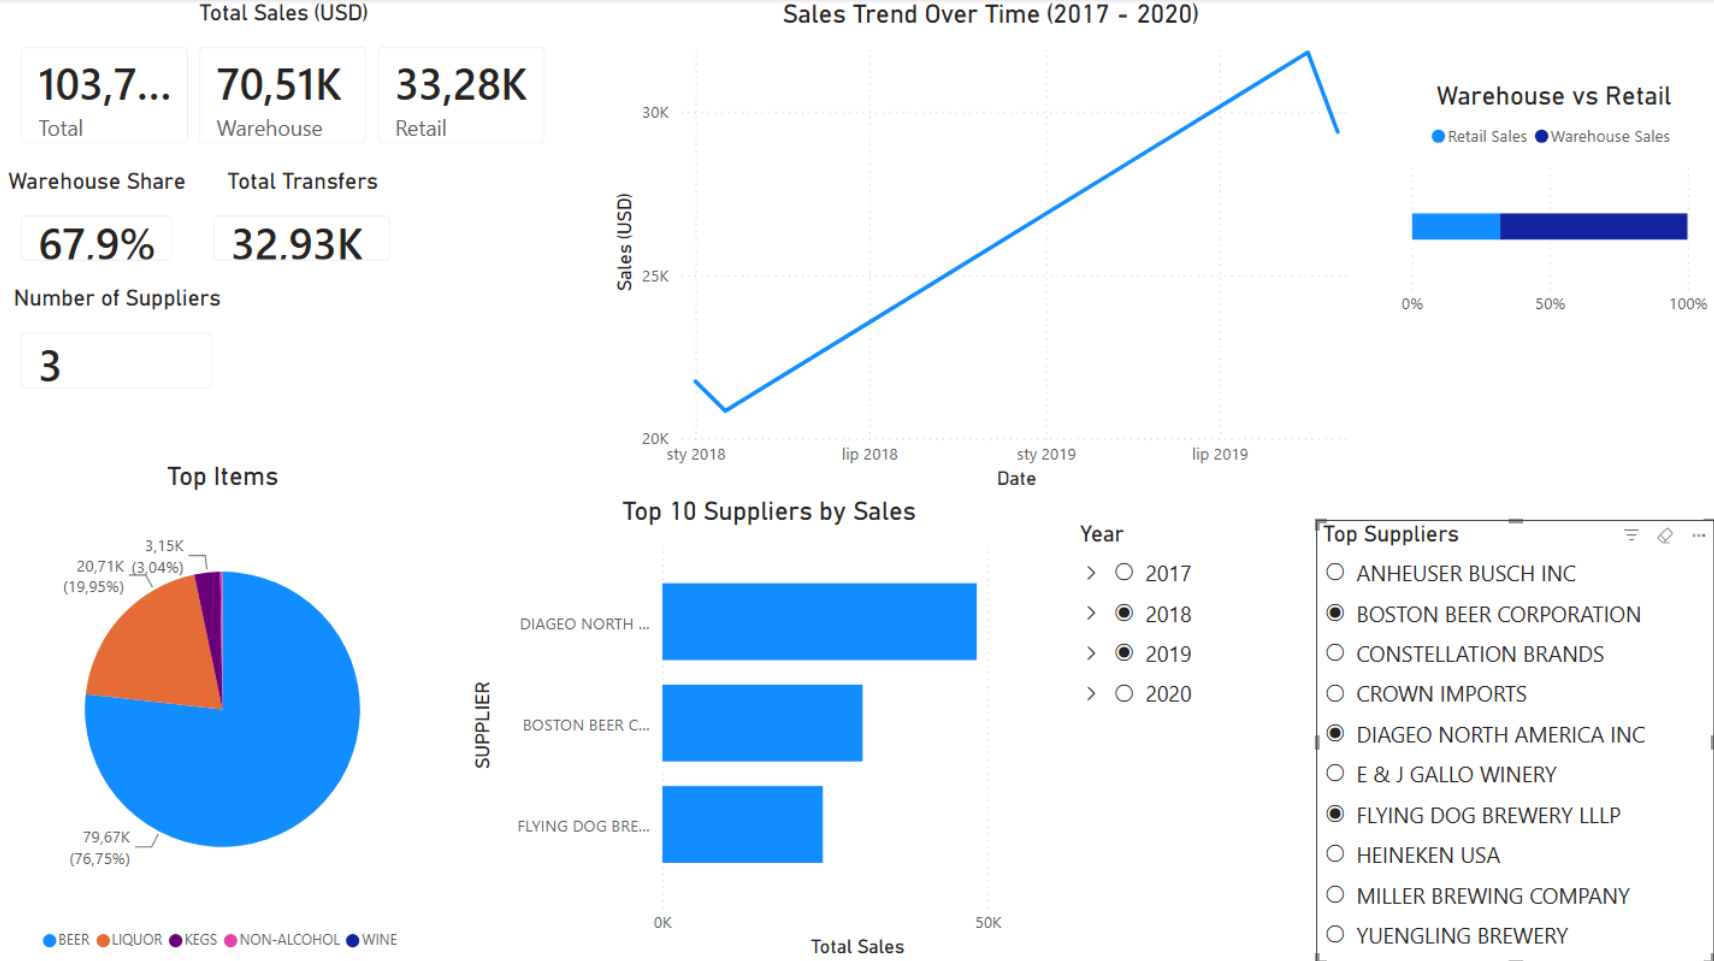

This screenshot's page, from the dashboard's own definition file:
{"tool":"powerbi","page":{"name":"Total Sales","canvas":[1280,720],"ordinal":0},"visuals":[{"type":"lineChart","title":"Sales Trend Over Time (2017 - 2020)","fields":{"Y":["Warehouse_and_Retail_Sales.Total Sales"],"Category":["Warehouse_and_Retail_Sales.Date"]},"box":[454.3,0,571.9,370.8],"z":0},{"type":"clusteredBarChart","title":"Top 10 Suppliers by Sales","fields":{"Category":["Warehouse_and_Retail_Sales.SUPPLIER"],"Y":["Warehouse_and_Retail_Sales.Total Sales"]},"box":[348.3,370.8,453.4,349.2],"z":2000},{"type":"listSlicer","fields":{"Values":["Warehouse_and_Retail_Sales.Date.Variation.Date Hierarchy.Year","Warehouse_and_Retail_Sales.Date.Variation.Date Hierarchy.Quarter","Warehouse_and_Retail_Sales.Date.Variation.Date Hierarchy.Month"]},"box":[801.7,388.7,181.3,331.3],"z":3000},{"type":"listSlicer","fields":{"Values":["Warehouse_and_Retail_Sales.SUPPLIER"]},"box":[983,388.7,297.2,331.3],"z":4000},{"type":"hundredPercentStackedBarChart","title":"Warehouse vs Retail","fields":{"Y":["Sum(Warehouse_and_Retail_Sales.WAREHOUSE SALES)","Sum(Warehouse_and_Retail_Sales.RETAIL SALES)"]},"box":[1040.5,61,239.7,184.9],"z":5000},{"type":"cardVisual","title":"Total Sales (USD)","fields":{"Data":["Warehouse_and_Retail_Sales.Total Sales","Sum(Warehouse_and_Retail_Sales.WAREHOUSE SALES)","Sum(Warehouse_and_Retail_Sales.RETAIL SALES)"]},"box":[0,0,425.5,125.7],"z":6000},{"type":"cardVisual","title":"Warehouse Share","fields":{"Data":["Warehouse_and_Retail_Sales.Warehouse Share %"]},"box":[0,125.7,147.2,87.1],"z":7000},{"type":"cardVisual","title":"Total Transfers","fields":{"Data":["Warehouse_and_Retail_Sales.Total Transfers"]},"box":[143.6,125.7,167,87.1],"z":8000},{"type":"cardVisual","title":"Number of Suppliers","fields":{"Data":["Warehouse_and_Retail_Sales.Number of Suppliers"]},"box":[0,212.8,177.8,95.2],"z":9000},{"type":"pieChart","title":"Top Items","fields":{"Category":["Warehouse_and_Retail_Sales.ITEM TYPE"],"Y":["Warehouse_and_Retail_Sales.Total Sales"]},"box":[0,344.7,334.9,375.3],"z":9001}]}

Visuals, with their boxes in screenshot pixels (x1, y1, x2, y2), scaled from the page's 1280x720 canvas onto the 1714x961 screenshot:
"Sales Trend Over Time (2017 - 2020)" lineChart: box=[608, 0, 1374, 495]
"Top 10 Suppliers by Sales" clusteredBarChart: box=[466, 495, 1074, 960]
listSlicer - Warehouse_and_Retail_Sales.Date.Variation.Date Hierarchy.Year x Warehouse_and_Retail_Sales.Date.Variation.Date Hierarchy.Quarter: box=[1074, 519, 1316, 960]
listSlicer - Warehouse_and_Retail_Sales.SUPPLIER: box=[1316, 519, 1713, 960]
"Warehouse vs Retail" hundredPercentStackedBarChart: box=[1393, 81, 1713, 328]
"Total Sales (USD)" cardVisual: box=[0, 0, 570, 168]
"Warehouse Share" cardVisual: box=[0, 168, 197, 284]
"Total Transfers" cardVisual: box=[192, 168, 416, 284]
"Number of Suppliers" cardVisual: box=[0, 284, 238, 411]
"Top Items" pieChart: box=[0, 460, 448, 960]
